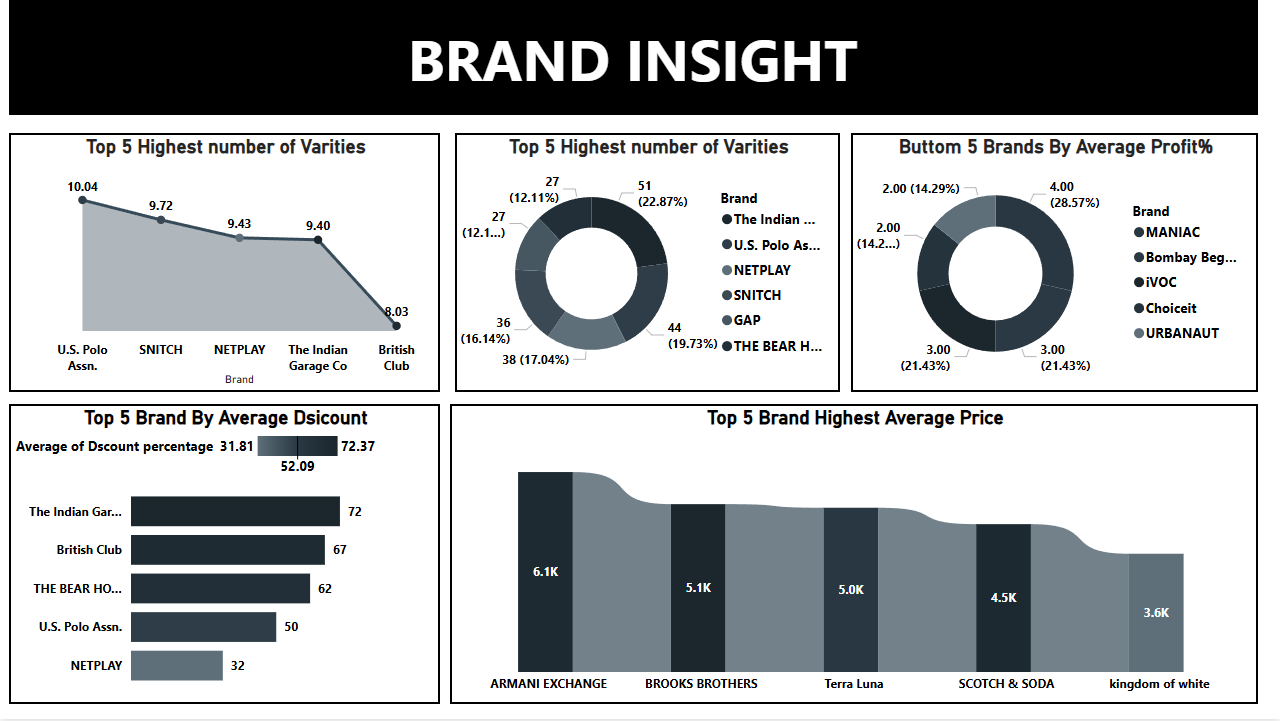

The dashboard page shown, as its layout file describes it:
{"tool":"powerbi","page":{"name":"Duplicate of Brands","canvas":[1280,720],"ordinal":0},"visuals":[{"type":"barChart","title":"Top 5 Brand By Average Dsicount","fields":{"Category":["Men+Tshirt.Brand"],"Y":["Avg(Men+Tshirt.Dscount percentage)"]},"box":[8.8,405,431.2,300],"z":0},{"type":"donutChart","title":"Top 5 Highest number of Varities","fields":{"Category":["Men+Tshirt.Brand"],"Y":["Count(Men+Tshirt.Title)"]},"box":[455,133.8,385,258.8],"z":1000},{"type":"ribbonChart","title":"Top 5 Brand Highest Average Price","fields":{"Category":["Men+Tshirt.Brand"],"Y":["Avg(Men+Tshirt.Sales Price)"]},"box":[450,405,807.5,300],"z":2000},{"type":"areaChart","title":"Top 5 Highest number of Varities","fields":{"Category":["Men+Tshirt.Brand"],"Y":["Avg(Men+Tshirt.Profit Percentage)"]},"box":[8.8,133.8,431.2,258.8],"z":3002},{"type":"donutChart","title":"Buttom 5 Brands By Average Profit%","fields":{"Category":["Men+Tshirt.Brand"],"Y":["Avg(Men+Tshirt.Profit Percentage)"]},"box":[851.2,133.8,406.2,258.8],"z":3003},{"type":"shape","box":[8.8,0,1248.8,116.2],"z":3004}]}

Visuals, with their boxes in screenshot pixels (x1, y1, x2, y2), scaled from the page's 1280x720 canvas onto the 1280x721 screenshot:
"Top 5 Brand By Average Dsicount" barChart: BBox(9, 406, 440, 706)
"Top 5 Highest number of Varities" donutChart: BBox(455, 134, 840, 393)
"Top 5 Brand Highest Average Price" ribbonChart: BBox(450, 406, 1258, 706)
"Top 5 Highest number of Varities" areaChart: BBox(9, 134, 440, 393)
"Buttom 5 Brands By Average Profit%" donutChart: BBox(851, 134, 1257, 393)
shape: BBox(9, 0, 1258, 116)
